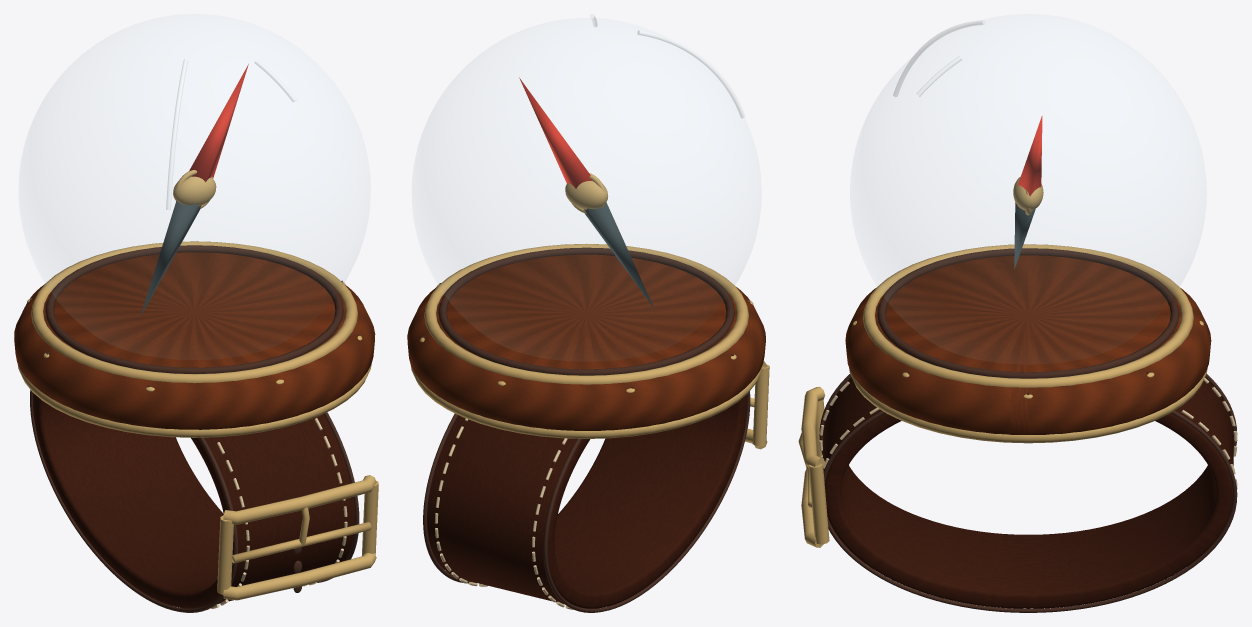
File: log-pose.glb
3 renders of one model, left to right at view 1: azimuth 30°, elevation 25°; view 2: azimuth 150°, elevation 25°; view 3: azimuth 270°, elevation 25°, orthographic.
Parts seen in each view (by area): view 1: log-pose | Log Pose · warm carved cherrywood, log-pose | Log Pose · aged cognac leather, log-pose | Log Pose · aged brass fittings, log-pose | Log Pose · dark leather edge paint, log-pose | Log Pose · vermilion magnetic pointer, log-pose | Log Pose · dark steel needle tail, log-pose | Log Pose · subtle glass highlights, log-pose | Log Pose · waxed linen stitches; view 2: log-pose | Log Pose · warm carved cherrywood, log-pose | Log Pose · aged cognac leather, log-pose | Log Pose · aged brass fittings, log-pose | Log Pose · dark leather edge paint, log-pose | Log Pose · vermilion magnetic pointer, log-pose | Log Pose · dark steel needle tail, log-pose | Log Pose · waxed linen stitches, log-pose | Log Pose · subtle glass highlights; view 3: log-pose | Log Pose · warm carved cherrywood, log-pose | Log Pose · aged cognac leather, log-pose | Log Pose · aged brass fittings, log-pose | Log Pose · dark leather edge paint, log-pose | Log Pose · vermilion magnetic pointer, log-pose | Log Pose · waxed linen stitches, log-pose | Log Pose · subtle glass highlights, log-pose | Log Pose · dark steel needle tail.
Boxes of the visible parts, <box> form: log-pose | Log Pose · warm carved cherrywood: <box>14,252,375,429</box>; log-pose | Log Pose · aged cognac leather: <box>33,393,355,608</box>; log-pose | Log Pose · aged brass fittings: <box>17,170,378,600</box>; log-pose | Log Pose · dark leather edge paint: <box>30,245,359,612</box>; log-pose | Log Pose · vermilion magnetic pointer: <box>189,64,248,182</box>; log-pose | Log Pose · dark steel needle tail: <box>140,200,201,316</box>; log-pose | Log Pose · subtle glass highlights: <box>166,59,296,209</box>; log-pose | Log Pose · waxed linen stitches: <box>207,418,347,609</box>; log-pose | Log Pose · warm carved cherrywood: <box>407,254,765,430</box>; log-pose | Log Pose · aged cognac leather: <box>427,394,747,608</box>; log-pose | Log Pose · aged brass fittings: <box>410,173,769,449</box>; log-pose | Log Pose · dark leather edge paint: <box>423,247,750,612</box>; log-pose | Log Pose · vermilion magnetic pointer: <box>519,77,592,188</box>; log-pose | Log Pose · dark steel needle tail: <box>584,202,653,307</box>; log-pose | Log Pose · waxed linen stitches: <box>434,418,573,609</box>; log-pose | Log Pose · subtle glass highlights: <box>590,14,744,117</box>; log-pose | Log Pose · warm carved cherrywood: <box>845,255,1211,434</box>; log-pose | Log Pose · aged cognac leather: <box>823,378,1233,608</box>; log-pose | Log Pose · aged brass fittings: <box>798,177,1207,547</box>; log-pose | Log Pose · dark leather edge paint: <box>819,248,1237,612</box>; log-pose | Log Pose · vermilion magnetic pointer: <box>1018,115,1042,196</box>; log-pose | Log Pose · waxed linen stitches: <box>819,378,1237,489</box>; log-pose | Log Pose · subtle glass highlights: <box>893,20,985,96</box>; log-pose | Log Pose · dark steel needle tail: <box>1014,202,1035,269</box>.
Bounding box in the file's own units: 0.506 × 0.8433 × 0.6073.
9 materials, 2 textured.
